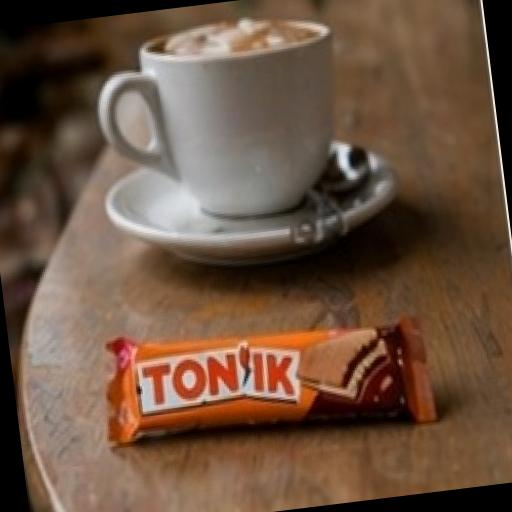tonik: (24, 128, 510, 502)
